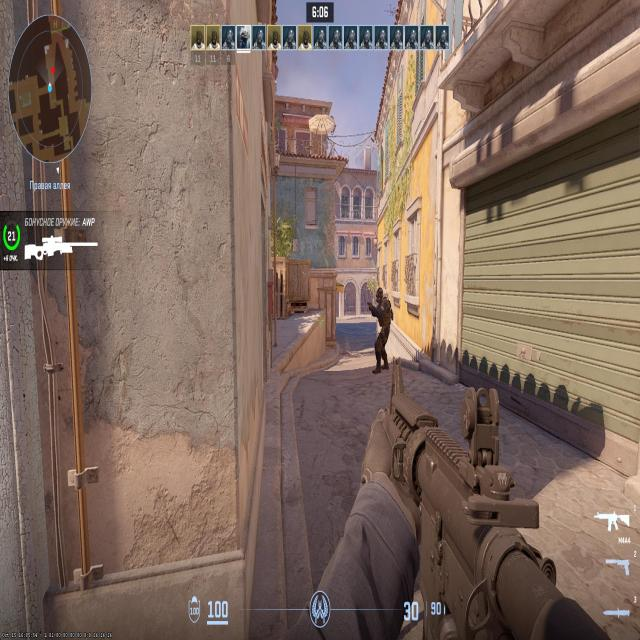CT: (375, 292, 386, 368)
CT_heat: (377, 285, 383, 300)
